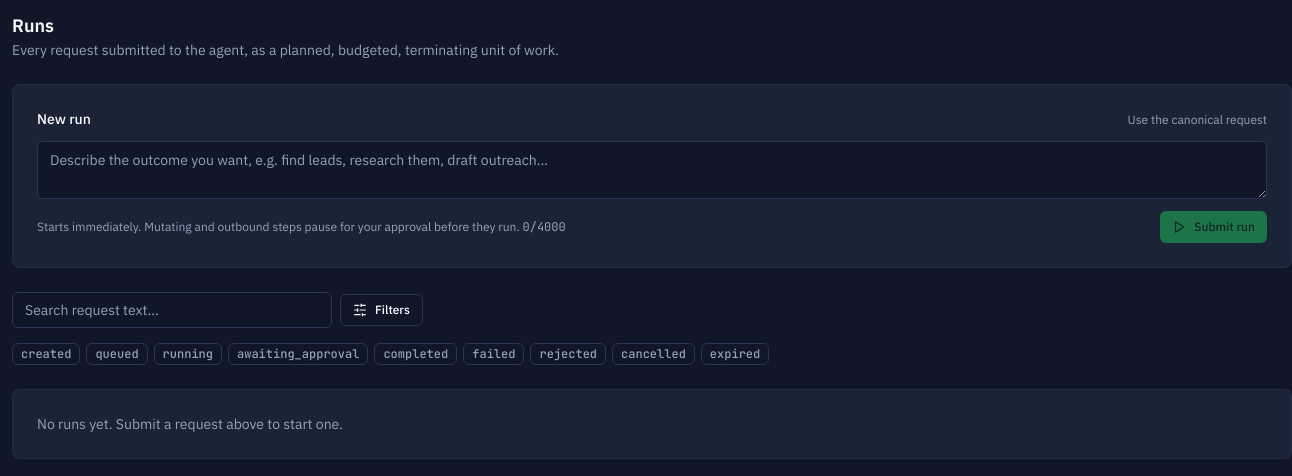
Test: RunsPage › shows a filters-aware empty message when filters are active
Click the button "failed" at (494,352), box [463,340,524,365]
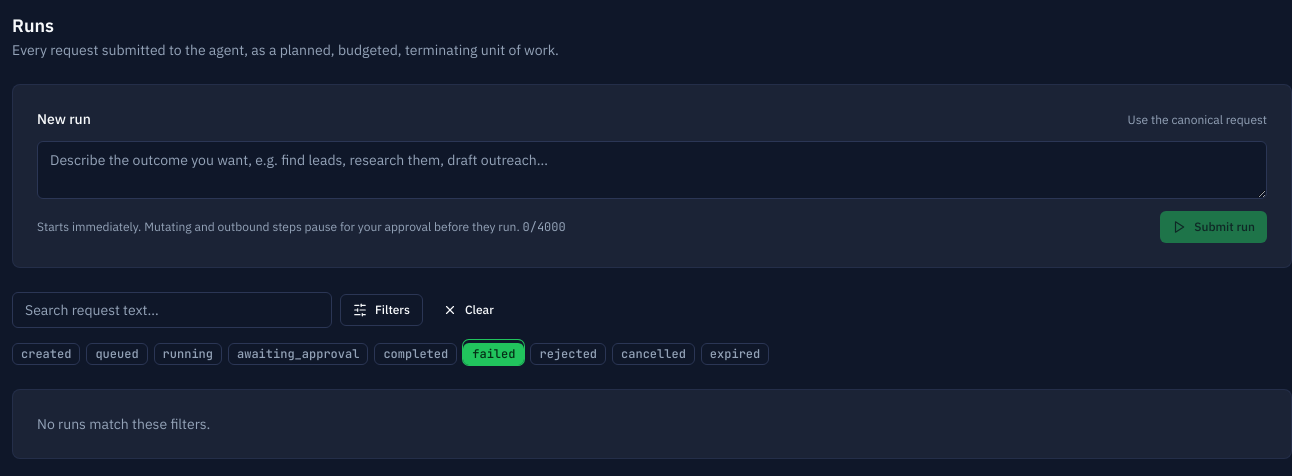
Check: the text "No runs match these filters." is shown, box [37,415,210,433]
